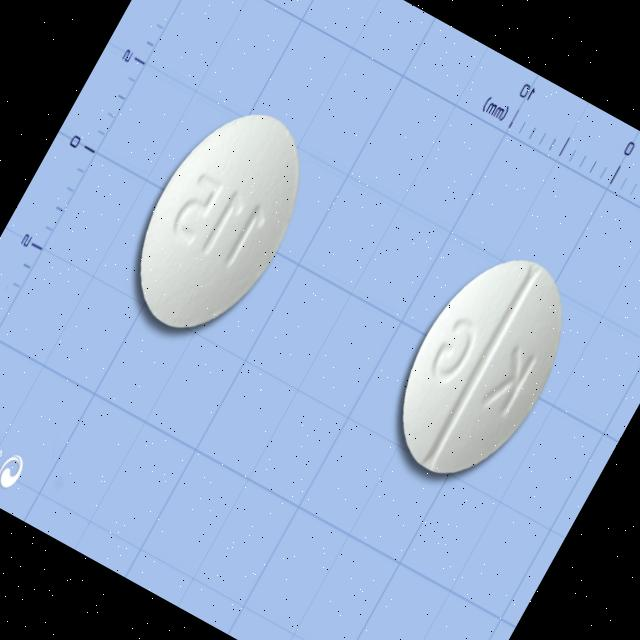Ciprocin - 259mg: (97, 74, 340, 364), (360, 228, 599, 510)
